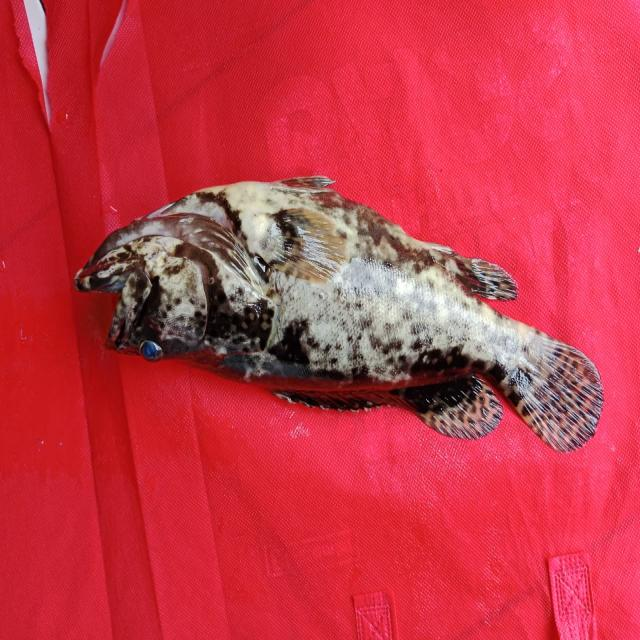ikan: (67, 160, 624, 473)
